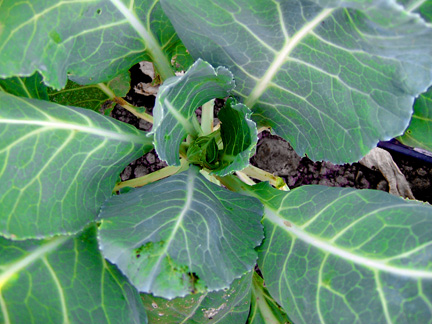cabbage: (186, 137, 221, 168)
